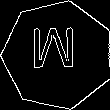M_S: (34, 30, 81, 81)
